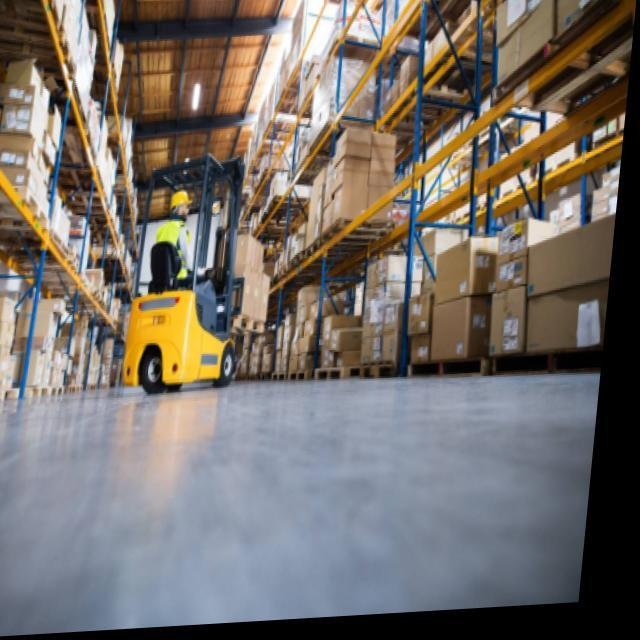helmet: (169, 187, 195, 222)
vest: (150, 217, 197, 284)
